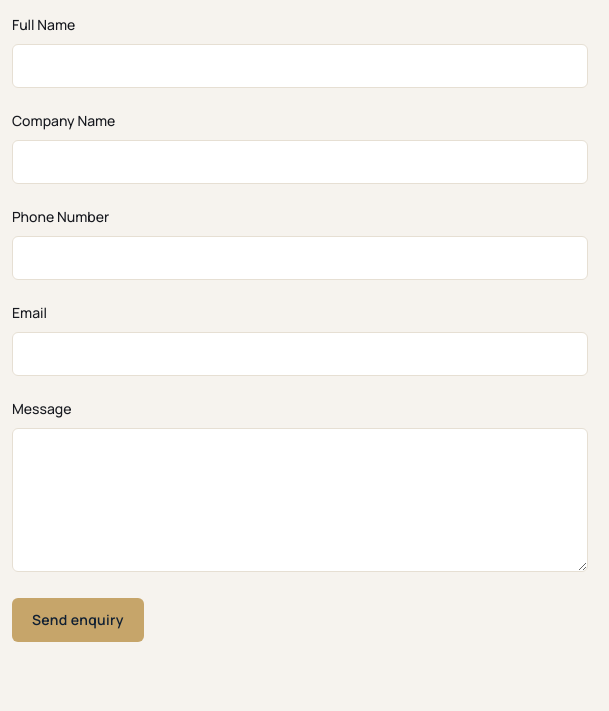
Test: service enquiry form › blocks an empty enquiry
This screenshot has width=609, height=711.
Step 1. Click the button "Send enquiry" → (78, 620), box left=12, top=598, right=144, bottom=642
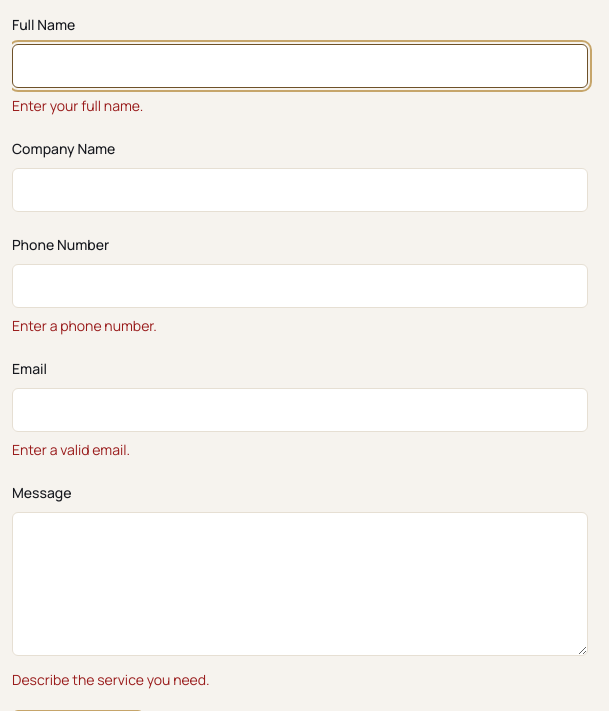
Check: the text "Enter your full name." is shown, box left=12, top=96, right=143, bottom=115
